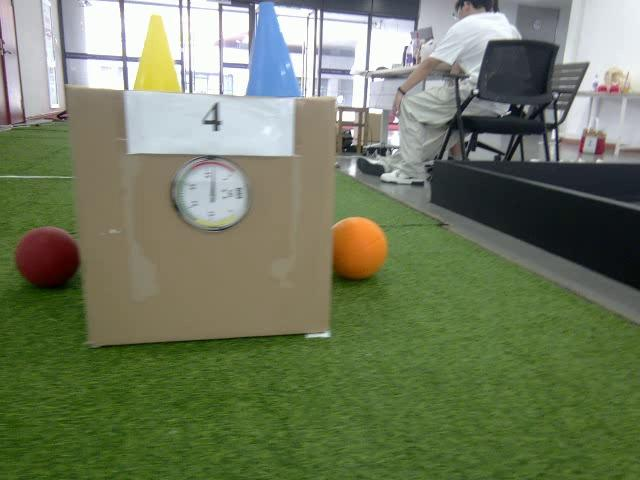4: (201, 103, 223, 133)
Dashboard: (172, 158, 253, 231)
blue_barrel: (247, 2, 300, 96)
orange_ball: (331, 217, 388, 280)
red_ball: (14, 226, 81, 286)
ssi: (234, 186, 243, 201)
yellow_barrel: (134, 13, 187, 93)
